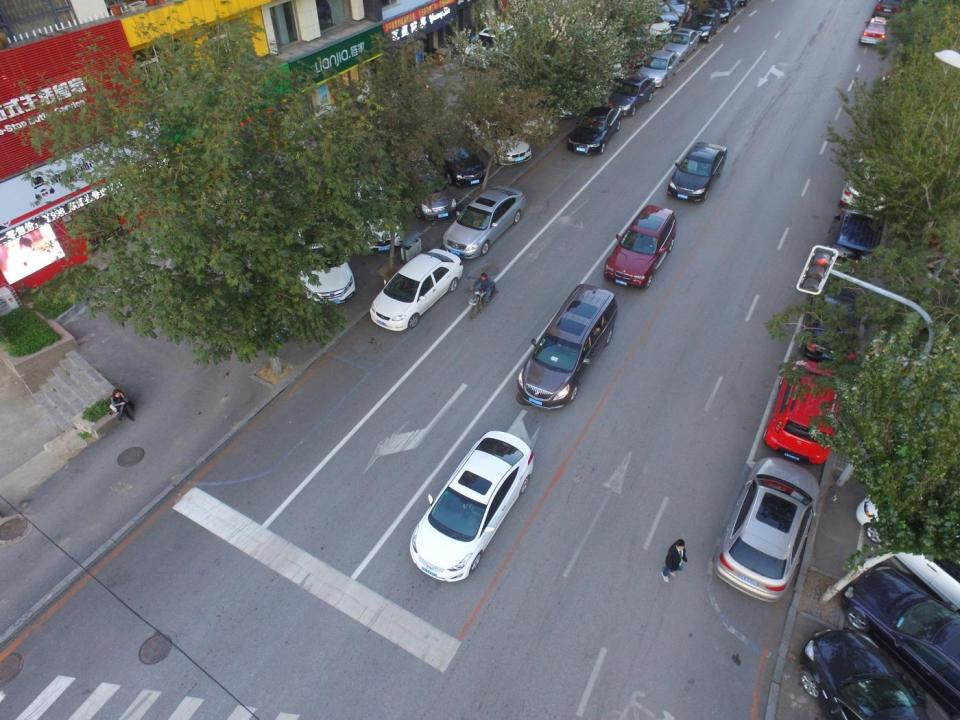car: (408, 430, 536, 583), (840, 567, 960, 719), (712, 454, 823, 605), (857, 464, 960, 610), (518, 280, 622, 408), (797, 626, 931, 720), (766, 357, 844, 467), (368, 248, 466, 333), (440, 186, 526, 260), (604, 203, 676, 291), (798, 271, 866, 364), (286, 214, 354, 304), (839, 128, 903, 216), (341, 169, 403, 251), (826, 203, 882, 291), (464, 102, 532, 168), (399, 147, 458, 220), (668, 141, 732, 201), (424, 128, 489, 183), (528, 68, 592, 118), (462, 18, 523, 70), (567, 104, 624, 156), (497, 84, 556, 134), (604, 76, 656, 116), (639, 50, 678, 89), (663, 27, 701, 64), (858, 15, 894, 51), (632, 9, 674, 38), (644, 0, 684, 26), (710, 0, 740, 24)
van: (693, 8, 720, 43)
